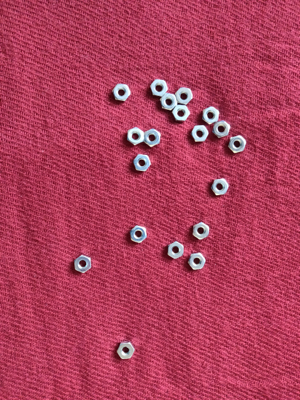nut: (112, 84, 132, 103), (228, 135, 248, 154), (116, 341, 136, 360), (143, 128, 162, 147), (159, 93, 178, 112), (133, 154, 152, 173), (150, 79, 170, 97), (74, 254, 92, 274), (126, 127, 145, 145), (175, 87, 194, 105), (212, 120, 230, 139), (211, 178, 230, 196), (188, 252, 207, 270), (192, 222, 210, 241), (202, 107, 220, 125), (191, 125, 209, 143), (130, 225, 148, 243), (167, 241, 185, 259), (172, 105, 191, 122)
